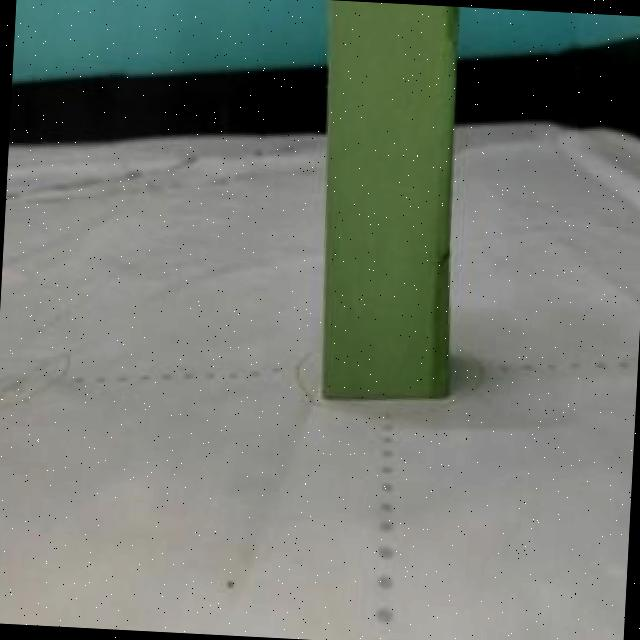greenbox: (300, 0, 475, 409)
